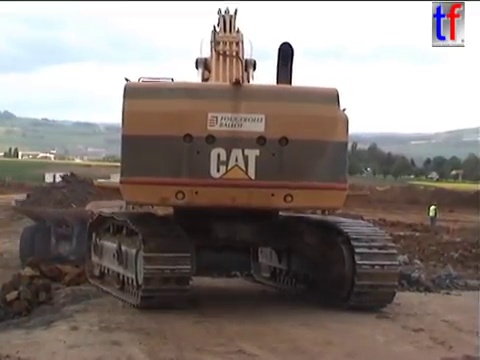excavator: (80, 3, 405, 314)
truck: (9, 177, 188, 278)
worker: (425, 198, 441, 229)
